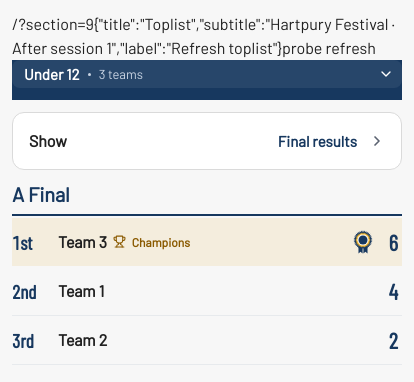
it: the age group select › lists the age groups with the current one and its team count
Click the dropdown named "Age group": click(52, 74) [12,60,402,88]
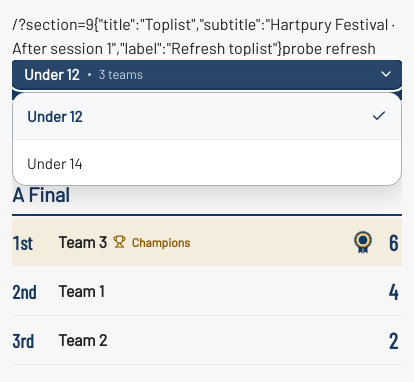
Now the options read "Under 12", "Under 14", in this order, box [13,93,401,139]; [13,139,401,185]
